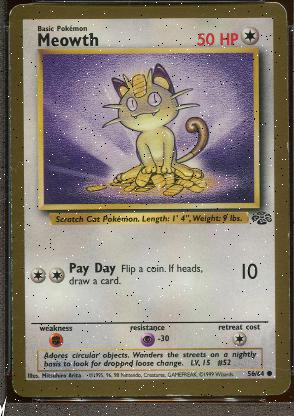Card: (8, 0, 291, 403)
Corner Wear: (277, 376, 289, 394), (11, 378, 19, 394), (8, 5, 15, 22)
Edge Wear: (10, 150, 13, 364), (8, 38, 11, 144), (286, 226, 289, 304), (285, 140, 288, 158)
Scratch: (267, 364, 289, 370), (12, 160, 22, 172)
